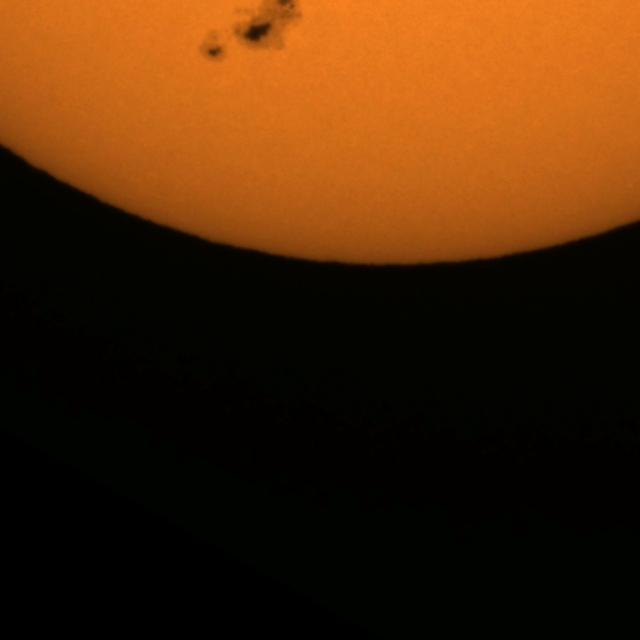sunspot: (230, 0, 305, 49), (196, 22, 245, 63)
